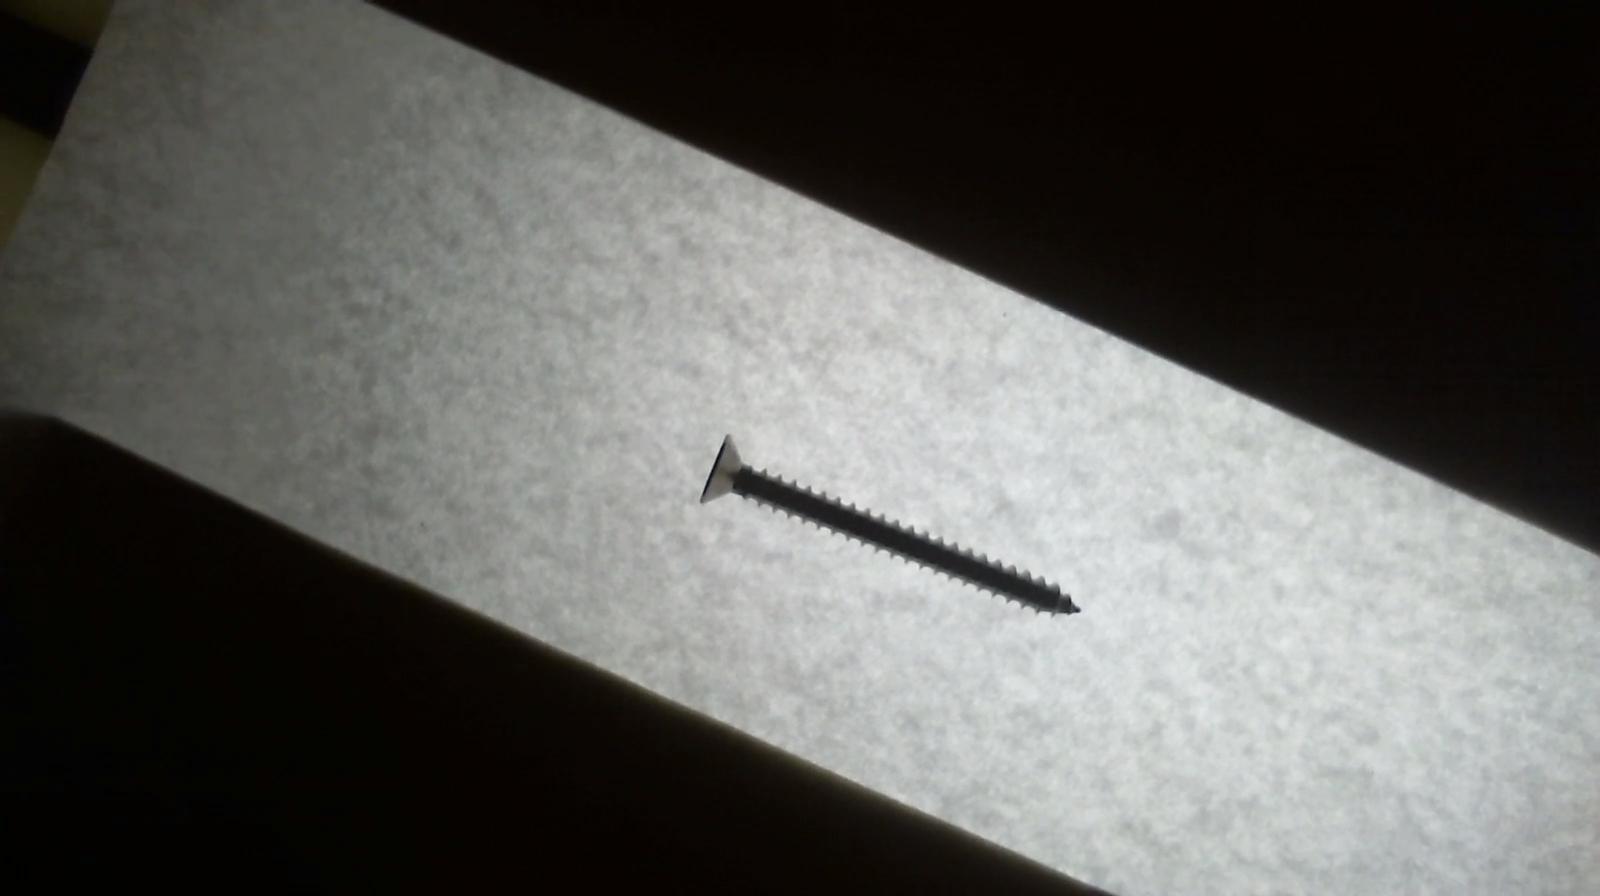S002: (700, 429, 1091, 624)
